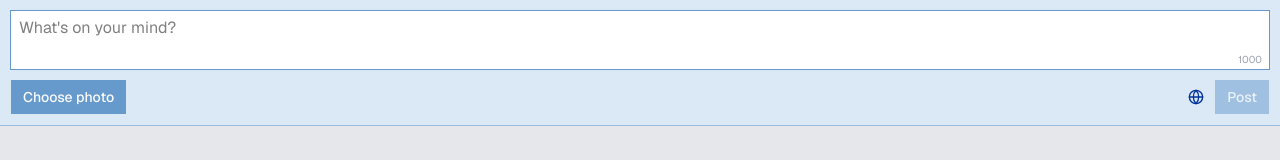
Test: PostComposer @mention autocomplete › filters by first name and last name
# "sm" only appears in Samantha's last name "Smith".
Type "@sm" into the dropdown with placeholder "What's on your mind?" at [640, 40], box [10, 10, 1270, 70]
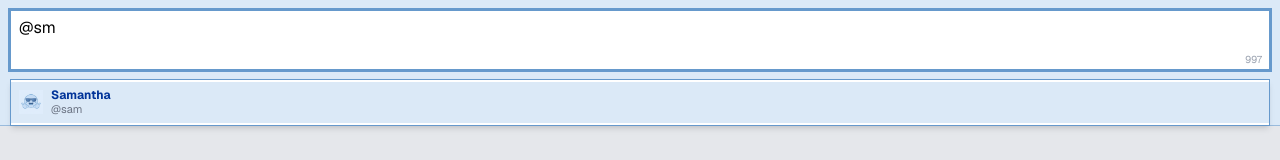
Expected: the number of options is 1, [11, 82, 1269, 123]
Expected: the option shows "@sam", [11, 82, 1269, 123]
